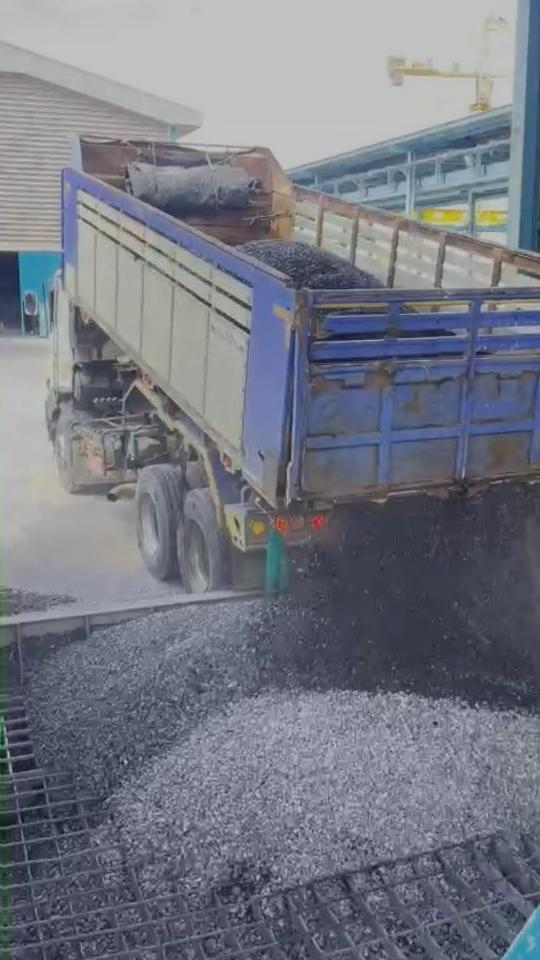gravel: (111, 692, 540, 897), (296, 483, 540, 716), (24, 600, 316, 793), (241, 240, 384, 288), (1, 587, 75, 615)
